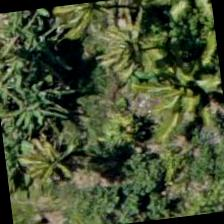Kelapa_Sawit: (87, 0, 188, 99), (0, 102, 96, 203), (143, 42, 223, 141), (133, 0, 216, 45)
